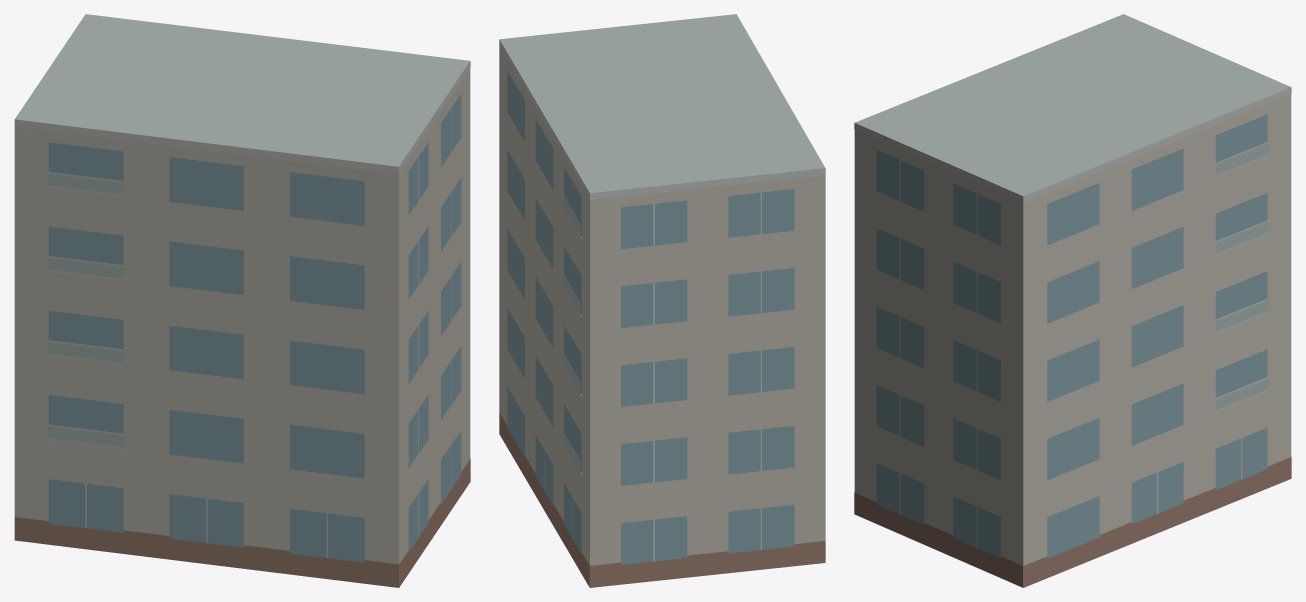
File: survey-upis-32881754.glb
The picture shows the model from 3 angles, left to right: view 1: azimuth 30°, elevation 25°; view 2: azimuth 150°, elevation 25°; view 3: azimuth 270°, elevation 25°; orthographic projection. The views are drawn at different scales.
Parts seen in each view (by area): view 1: survey-upis-32881754.tmp; view 2: survey-upis-32881754.tmp; view 3: survey-upis-32881754.tmp.
Part boxes in pixels (bbox=[...]): survey-upis-32881754.tmp: bbox=[14, 14, 470, 587]; survey-upis-32881754.tmp: bbox=[499, 14, 825, 587]; survey-upis-32881754.tmp: bbox=[854, 14, 1291, 587].
Bounding box in the file's own units: 13.89 × 13.9 × 14.06.
